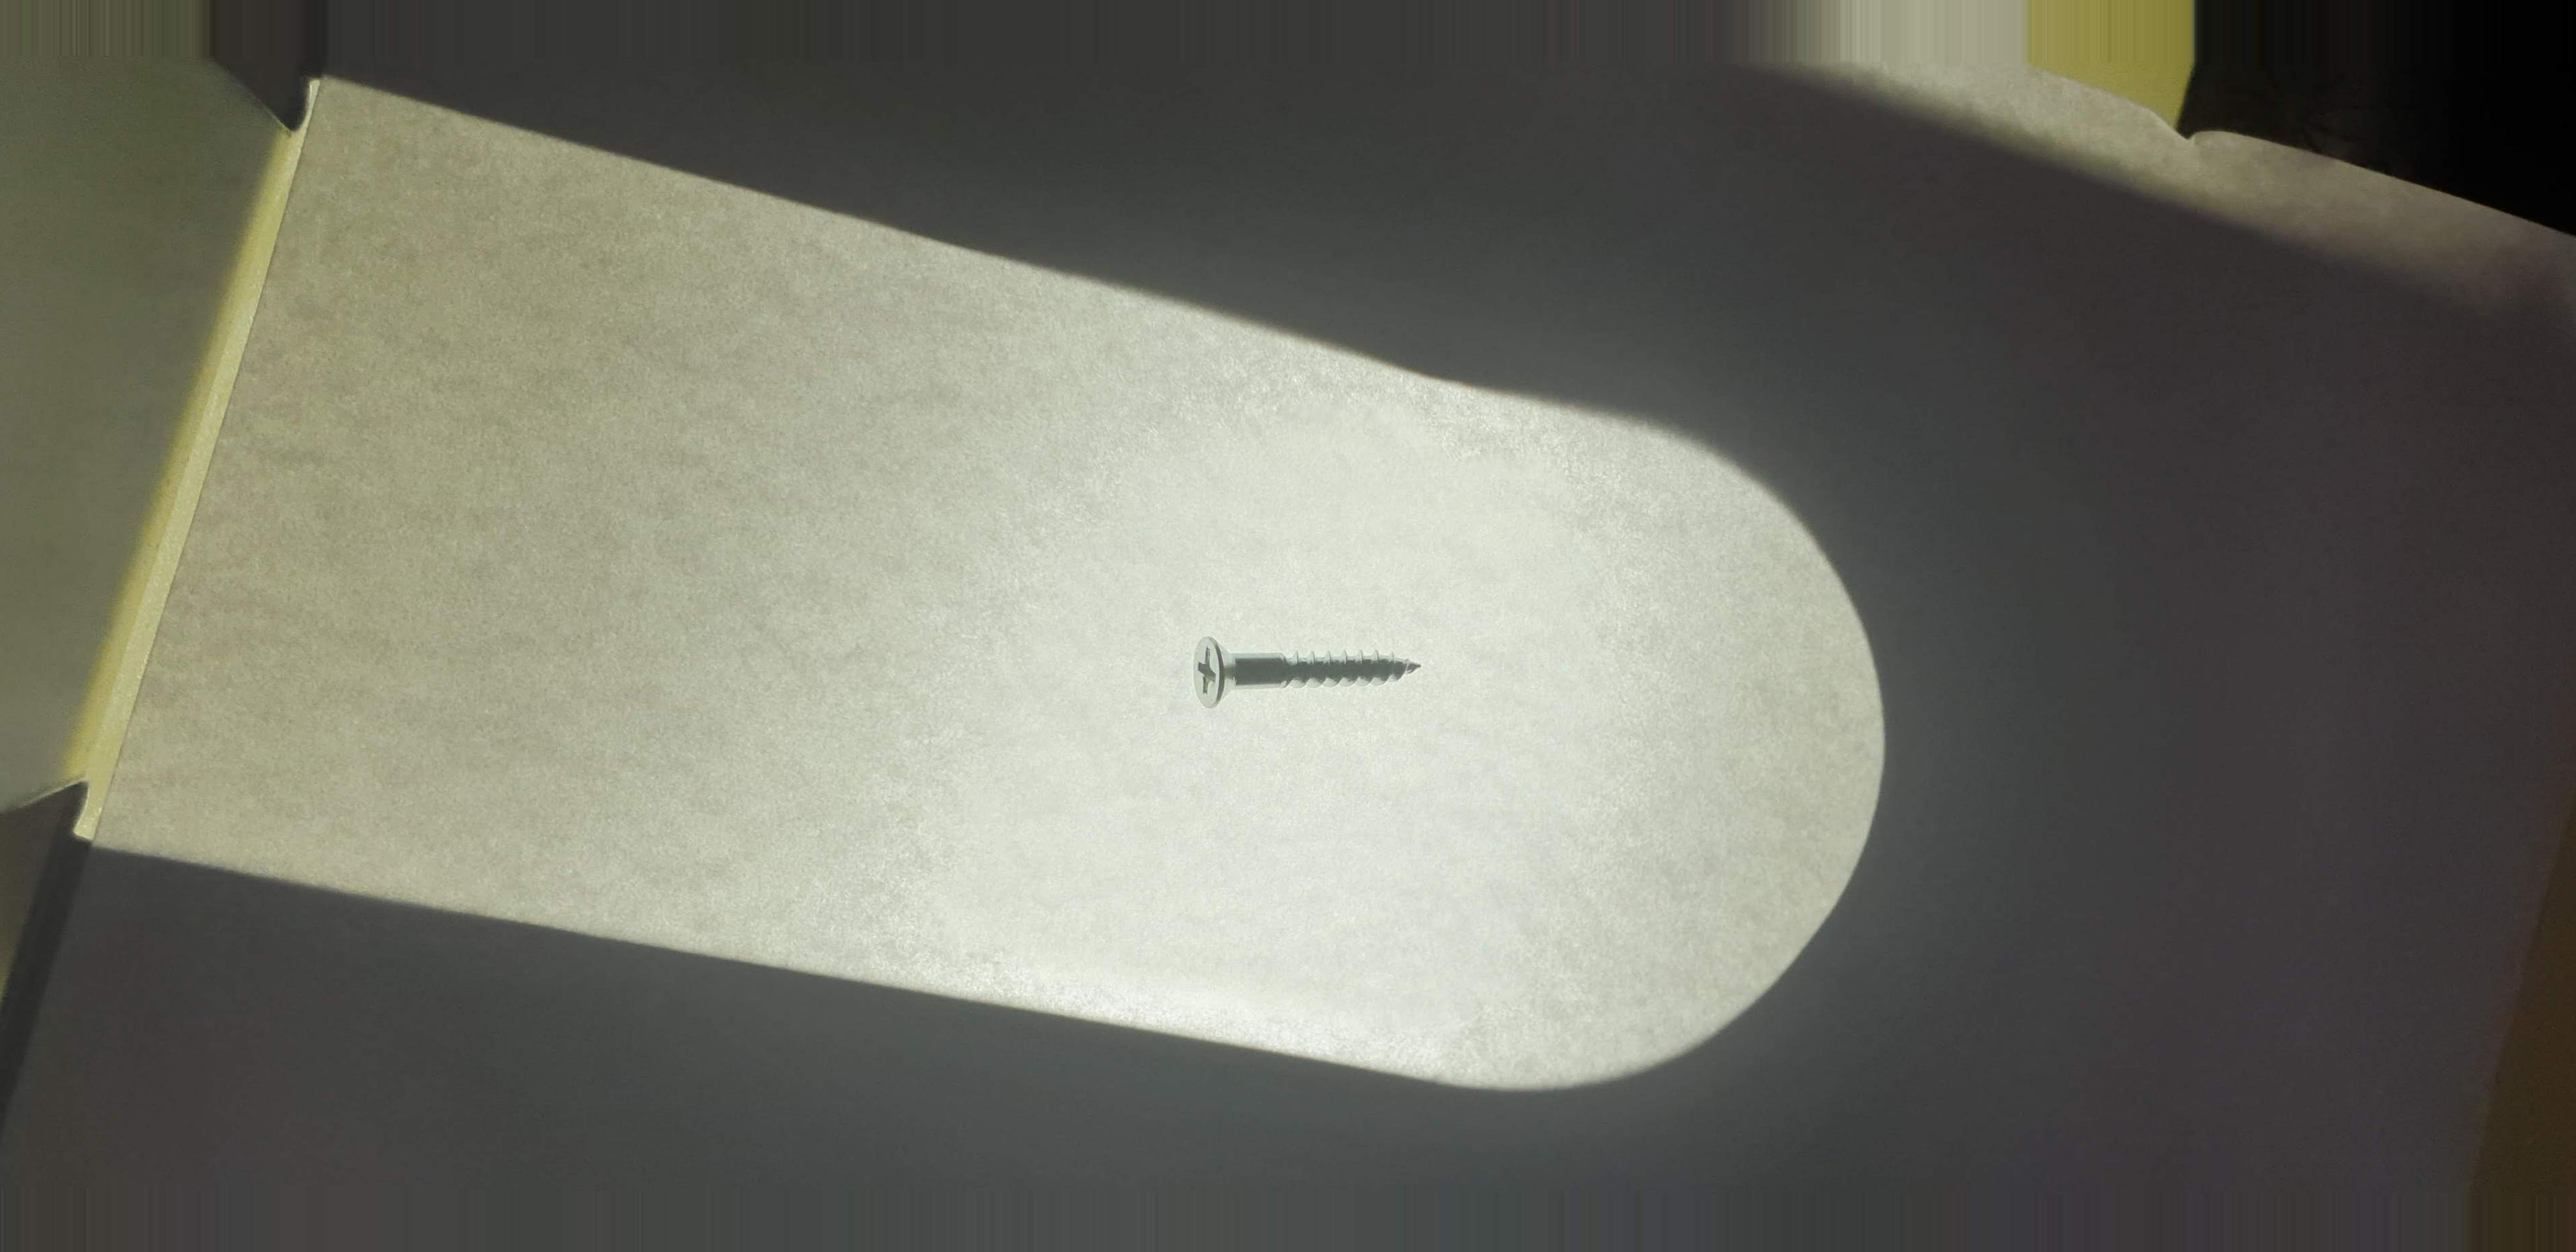S005: (1137, 596, 1454, 731)
